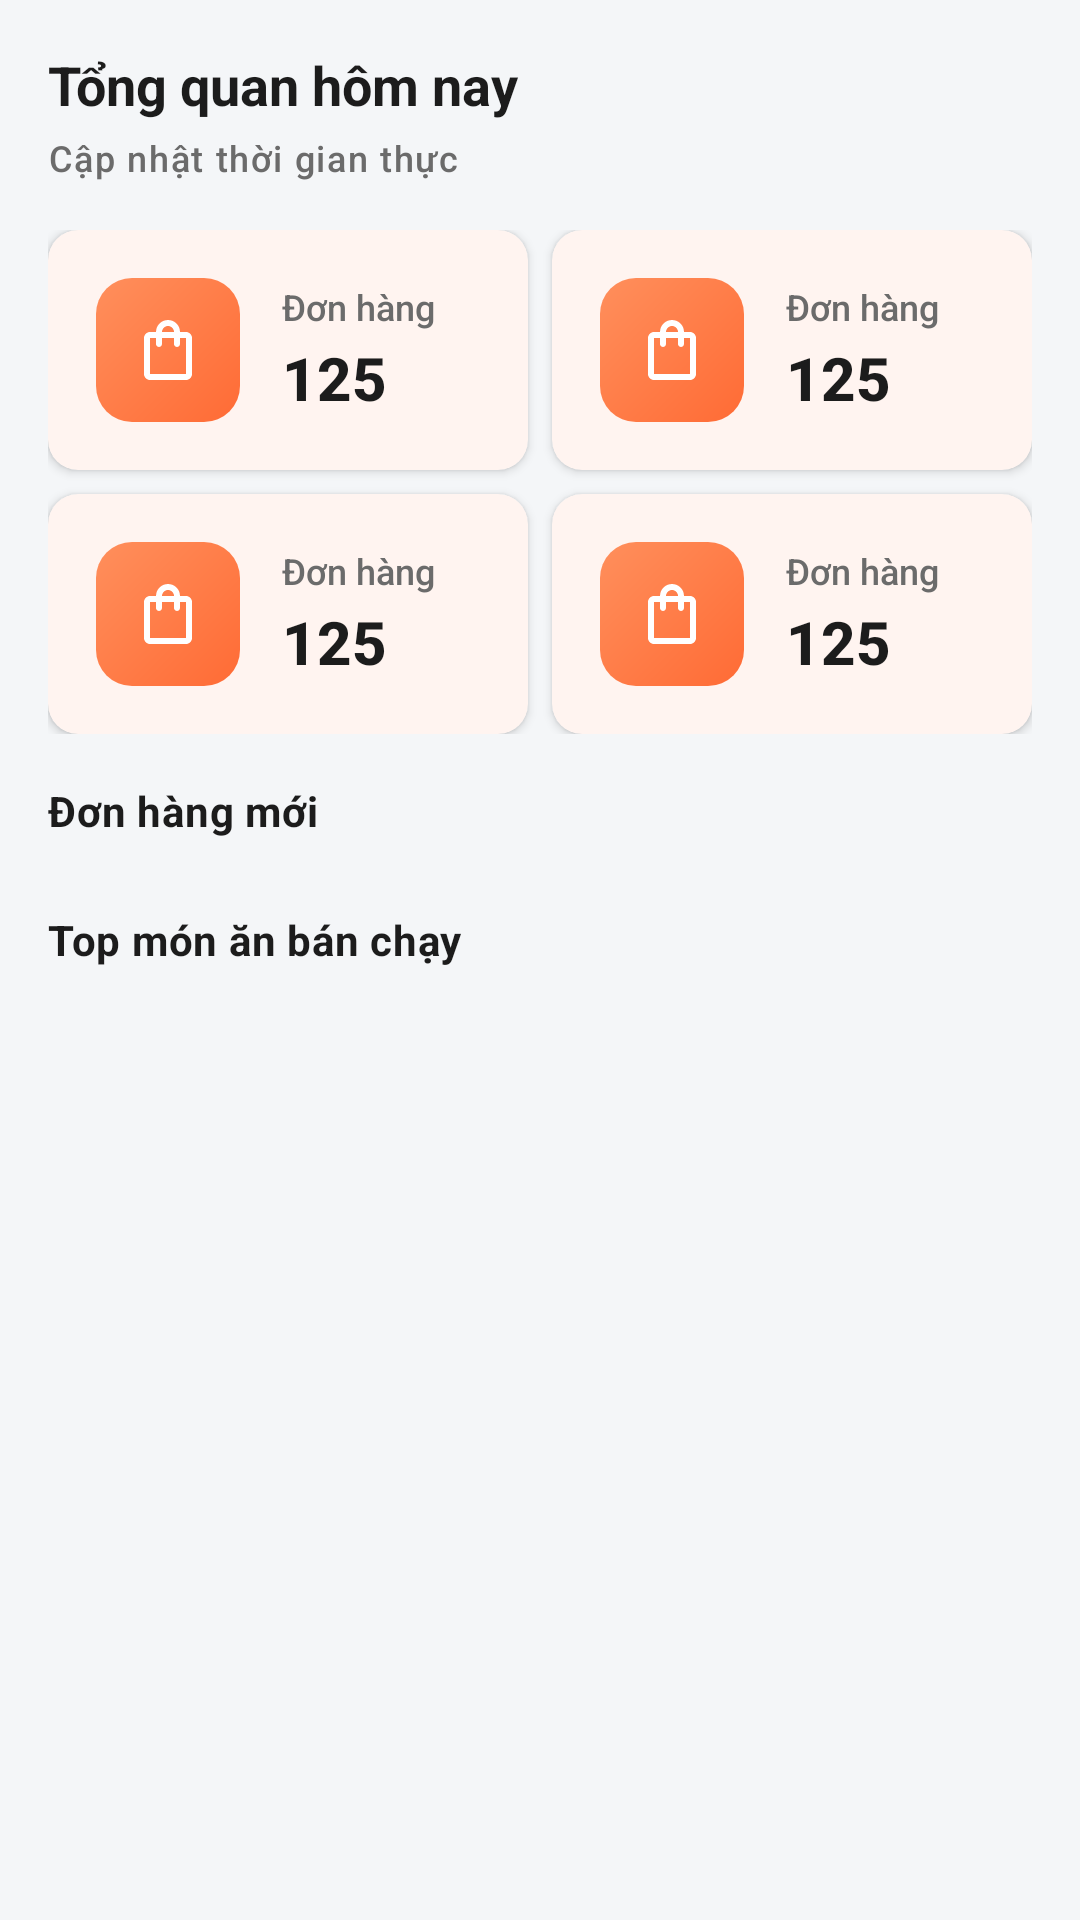

Icons on this 1080px x 1920px Android screen, each with its box as (x1, y1, x2, y2):
orders: (144, 320, 192, 380), (648, 320, 696, 380), (144, 584, 192, 644), (648, 584, 696, 644)
